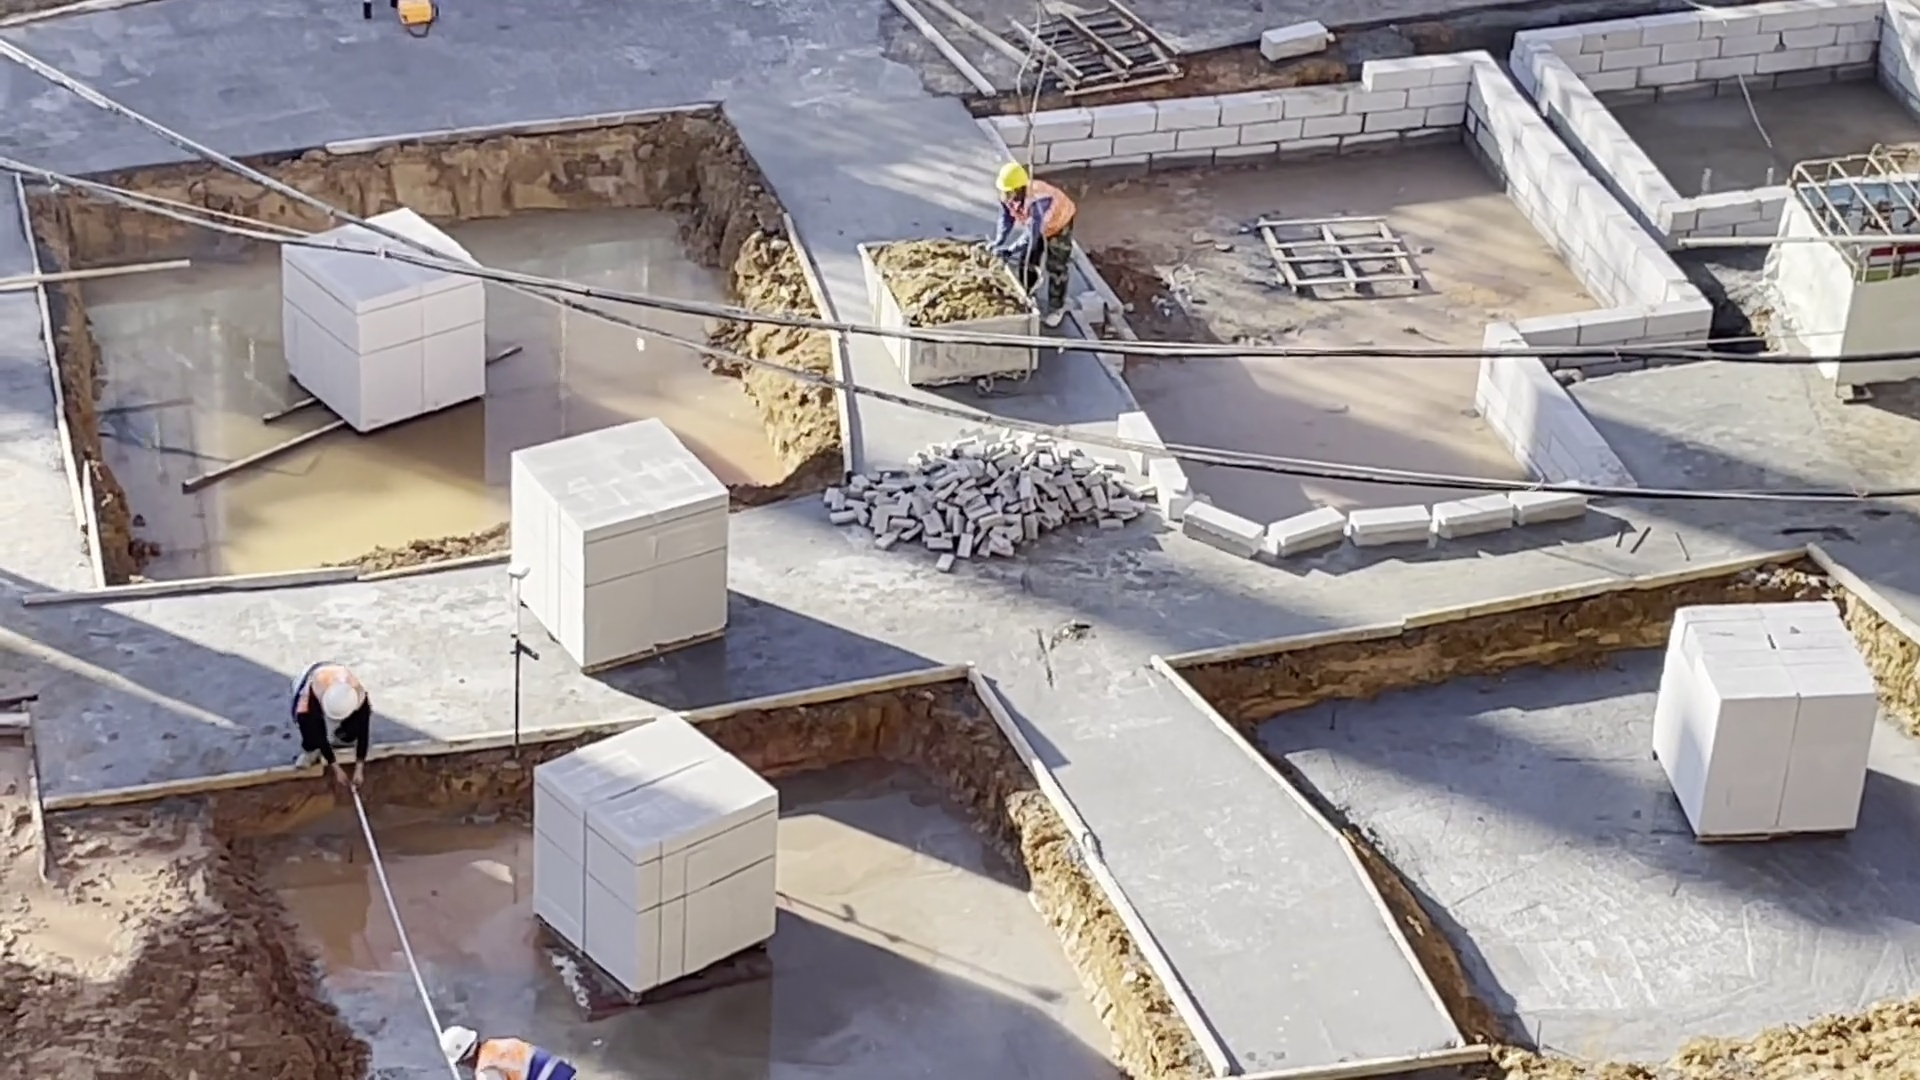brick: (528, 708, 779, 997), (501, 406, 735, 664), (1653, 595, 1883, 842), (275, 285, 493, 441)
helmet: (316, 679, 361, 721), (437, 1025, 479, 1067), (996, 160, 1028, 192)
hopper: (856, 231, 987, 331)
person: (995, 160, 1082, 327), (288, 654, 381, 783), (430, 1019, 584, 1080)
vest: (474, 1034, 575, 1080), (1003, 179, 1077, 237)
